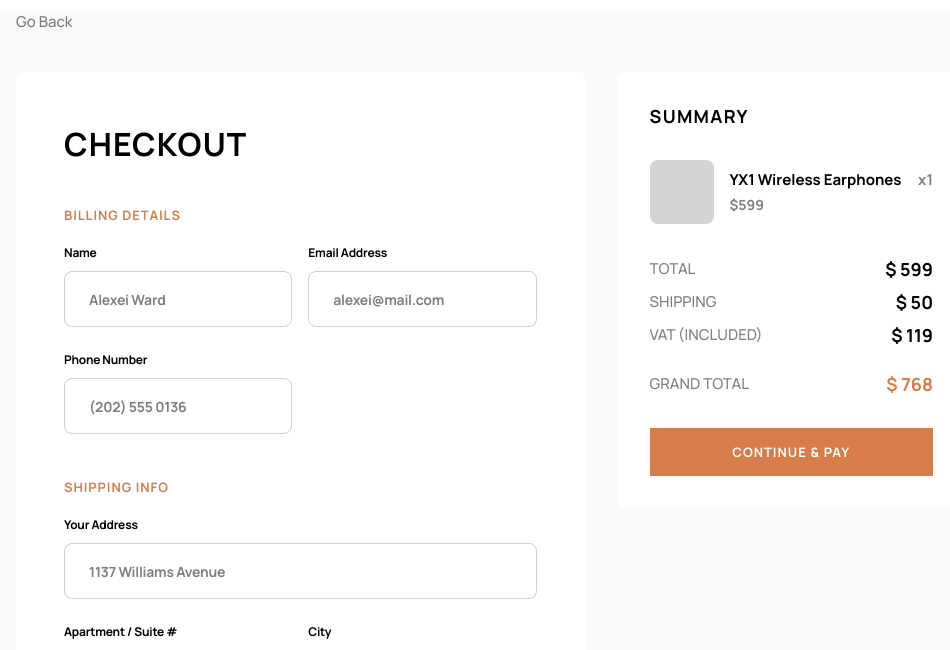
Email validation › shows validation error when email is empty
Click the button "CONTINUE & PAY" at [791, 452], box [650, 428, 933, 476]
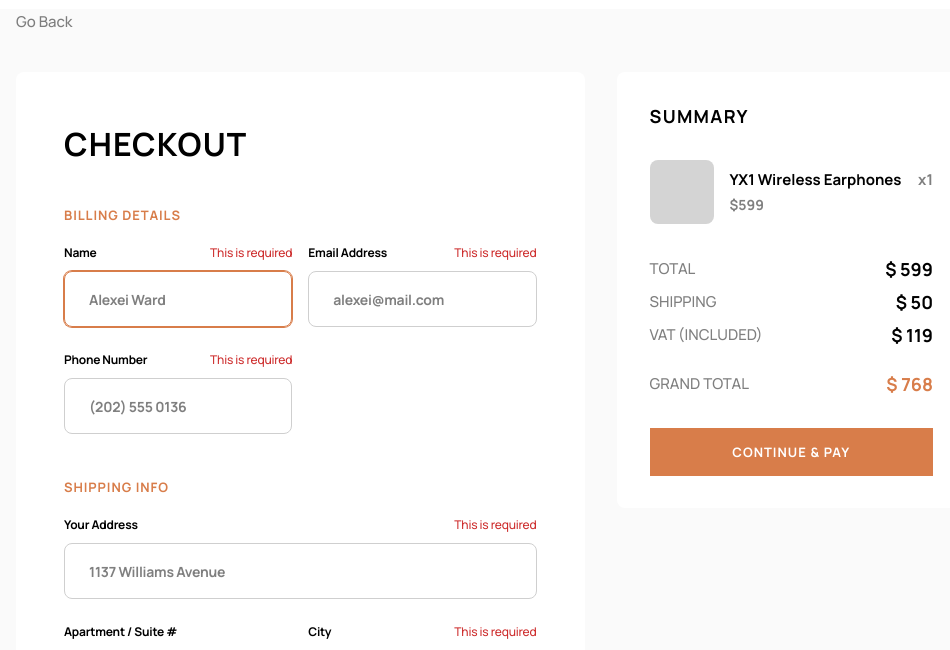
Result: the text "This is required" next to "Email Address" is shown at [454, 244, 536, 261]
